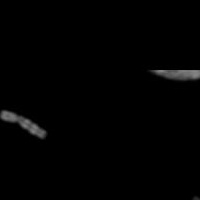chromosome: (1, 109, 45, 138), (190, 197, 200, 200)
